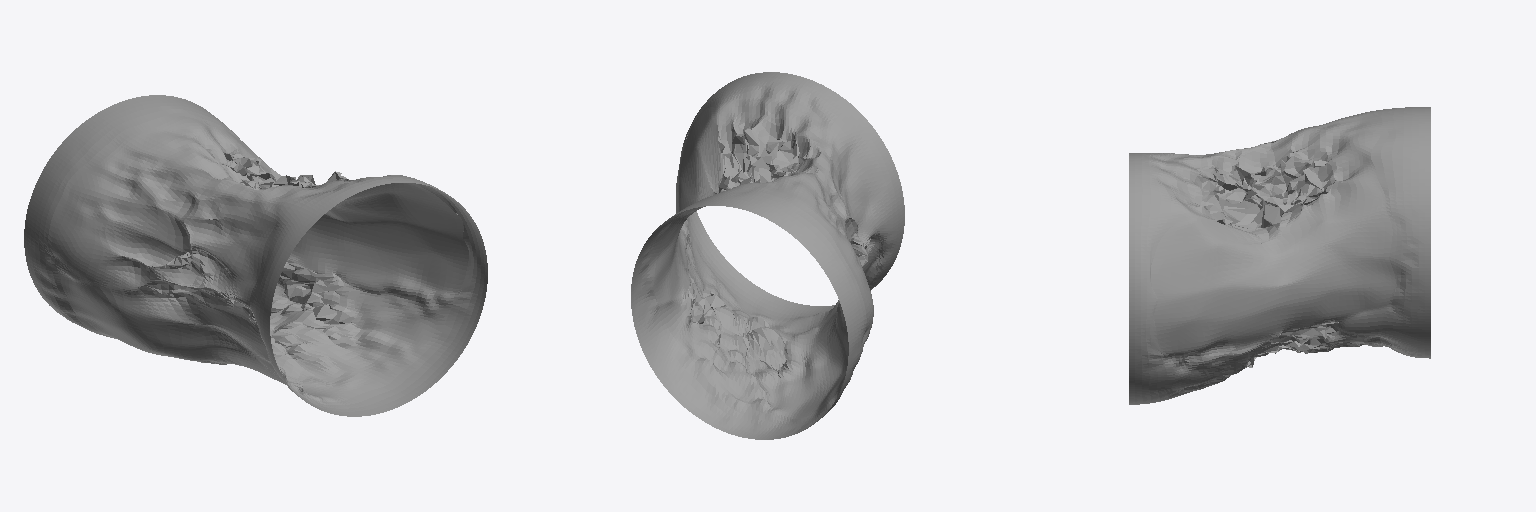
Rendered from tunnel_base_leftTurn_edit.obj.
3 views of the same model, side by side, from view 1: azimuth 30°, elevation 25°; view 2: azimuth 150°, elevation 25°; view 3: azimuth 270°, elevation 25° (orthographic).
Visible parts, largest first — view 1: tunnel_base_leftTurn_edit1:pCylinder1; view 2: tunnel_base_leftTurn_edit1:pCylinder1; view 3: tunnel_base_leftTurn_edit1:pCylinder1.
Part boxes in pixels (x1,y1,x2,y2): tunnel_base_leftTurn_edit1:pCylinder1: (24, 95, 487, 416); tunnel_base_leftTurn_edit1:pCylinder1: (631, 72, 904, 439); tunnel_base_leftTurn_edit1:pCylinder1: (1129, 107, 1430, 404).
Bounding box in the file's own units: 6.11 × 4.26 × 5.12.